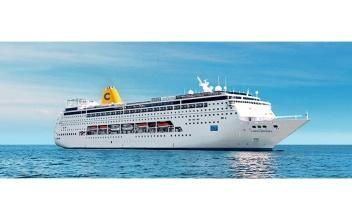youlun: (53, 71, 312, 150)
